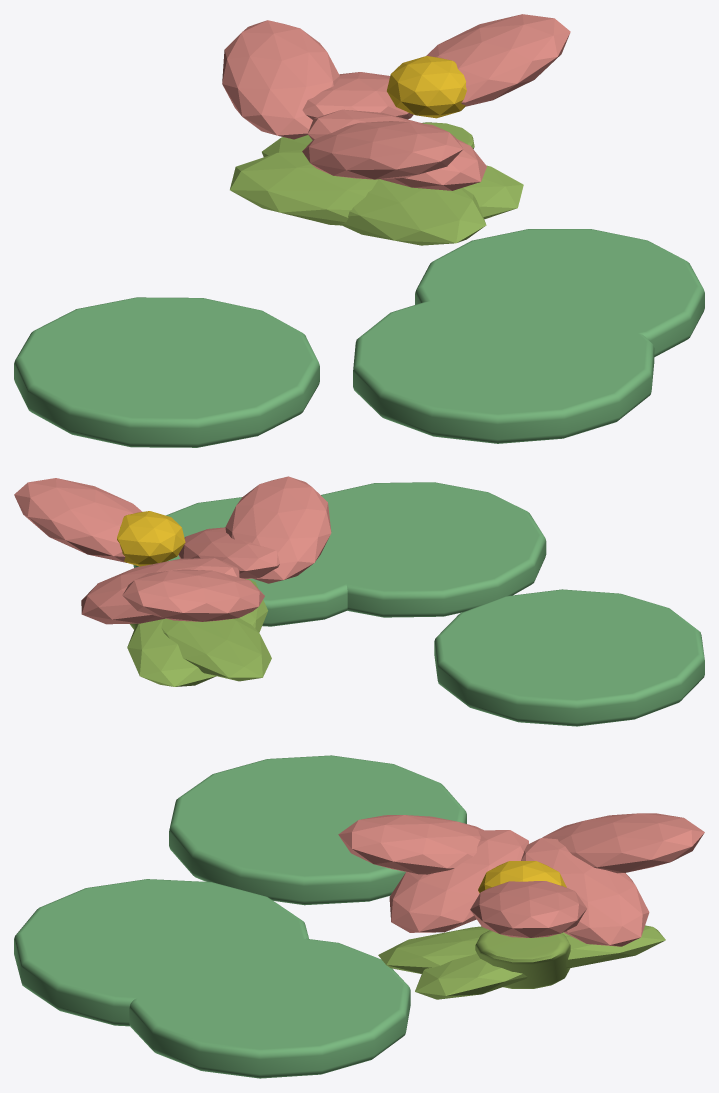
The model's file is prop_lily_a.glb.
The picture shows the model from 3 angles, top to bottom: view 1: azimuth 30°, elevation 25°; view 2: azimuth 150°, elevation 25°; view 3: azimuth 270°, elevation 25°; orthographic projection. The views are drawn at different scales.
Visible parts, largest first — view 1: lilya_p1, lilya_p0, lilya_p2, lilyf_petal1, lilyf_leaf1, lilyf_petal0, lilyf_leaf0, lilyf_petal4, lilyf_center, lilyf_petal2, lilyf_petal3; view 2: lilya_p1, lilya_p0, lilya_p2, lilyf_petal4, lilyf_petal0, lilyf_petal1, lilyf_leaf1, lilyf_leaf0, lilyf_petal3, lilyf_center, lilyf_petal2; view 3: lilya_p2, lilya_p1, lilya_p0, lilyf_petal2, lilyf_petal1, lilyf_petal4, lilyf_petal3, lilyf_petal0, lilyf_leaf0, lilyf_stem, lilyf_leaf1, lilyf_center.
Boxes of the visible parts, <box> form: lilya_p1: <box>14,297,319,447</box>; lilya_p0: <box>353,295,654,443</box>; lilya_p2: <box>415,229,704,357</box>; lilyf_petal1: <box>222,20,339,139</box>; lilyf_leaf1: <box>230,149,523,225</box>; lilyf_petal0: <box>426,14,570,106</box>; lilyf_leaf0: <box>262,135,486,245</box>; lilyf_petal4: <box>302,121,463,179</box>; lilyf_center: <box>387,56,466,118</box>; lilyf_petal2: <box>307,109,486,190</box>; lilyf_petal3: <box>302,72,413,119</box>; lilya_p1: <box>434,589,704,726</box>; lilya_p0: <box>307,482,546,617</box>; lilya_p2: <box>133,497,382,626</box>; lilyf_petal4: <box>225,476,331,583</box>; lilyf_petal0: <box>14,478,142,562</box>; lilyf_petal1: <box>122,569,264,621</box>; lilyf_leaf1: <box>161,618,271,681</box>; lilyf_leaf0: <box>127,579,267,686</box>; lilyf_petal3: <box>81,558,239,624</box>; lilyf_center: <box>117,511,185,566</box>; lilyf_petal2: <box>178,527,279,579</box>; lilya_p2: <box>129,936,410,1078</box>; lilya_p1: <box>169,755,466,905</box>; lilya_p0: <box>14,879,308,1026</box>; lilyf_petal2: <box>389,830,528,932</box>; lilyf_petal1: <box>542,813,704,873</box>; lilyf_petal4: <box>338,815,483,874</box>; lilyf_petal3: <box>521,838,649,946</box>; lilyf_petal0: <box>470,881,586,937</box>; lilyf_leaf0: <box>378,925,665,973</box>; lilyf_stem: <box>475,930,570,988</box>; lilyf_leaf1: <box>415,932,569,999</box>; lilyf_center: <box>478,861,566,893</box>.
Size of the model in its own units: 0.5744 by 0.1471 by 0.5513.
